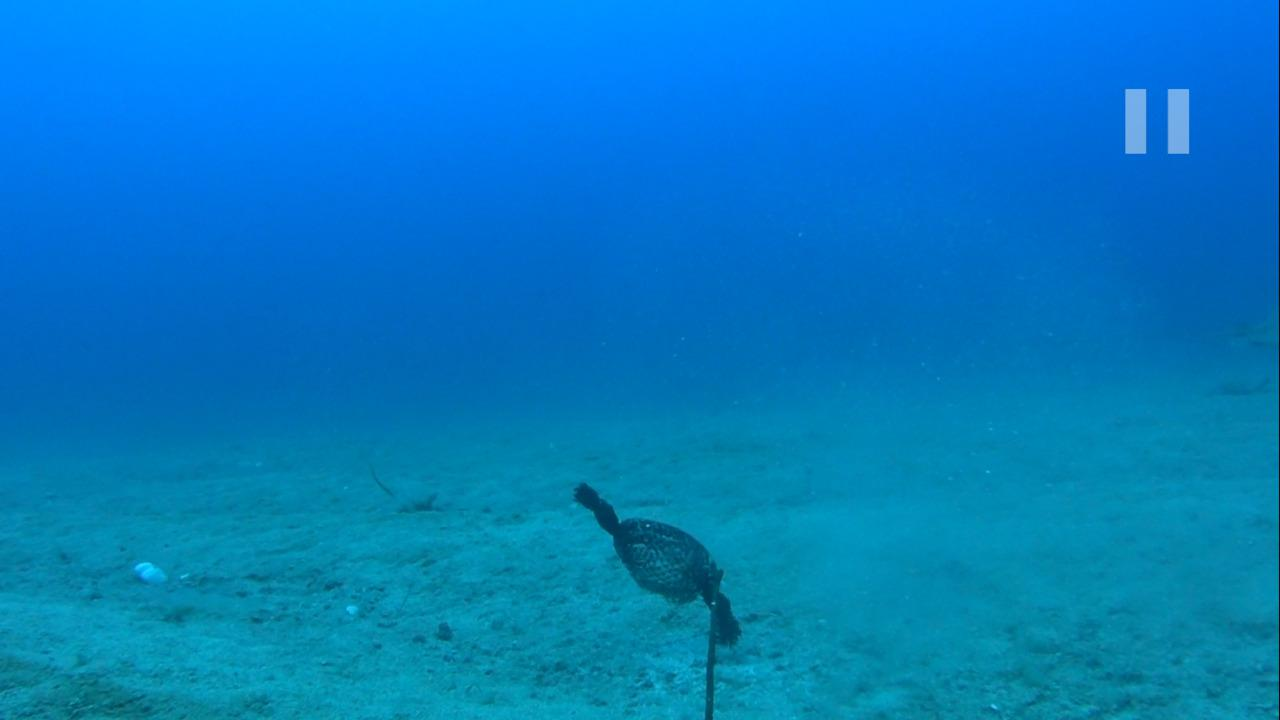myliobatis: (1123, 289, 1279, 359)
